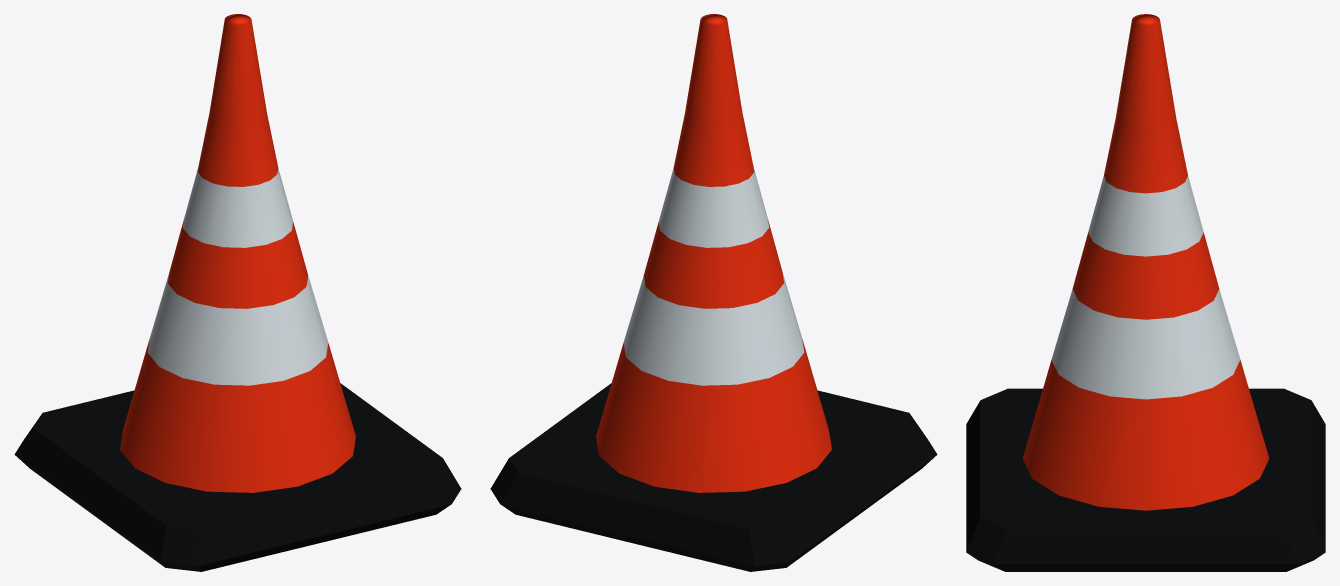
3 renders of one model, left to right at view 1: azimuth 30°, elevation 25°; view 2: azimuth 150°, elevation 25°; view 3: azimuth 270°, elevation 25°, orthographic. The views are drawn at different scales.
Visible parts, largest first — view 1: cone; view 2: cone; view 3: cone.
Part boxes in pixels (x1=…): cone: x1=14, y1=14, x2=461, y2=571; cone: x1=490, y1=14, x2=937, y2=571; cone: x1=966, y1=14, x2=1325, y2=571.
Bounding box in the file's own units: 0.46 × 0.46 × 0.68.
